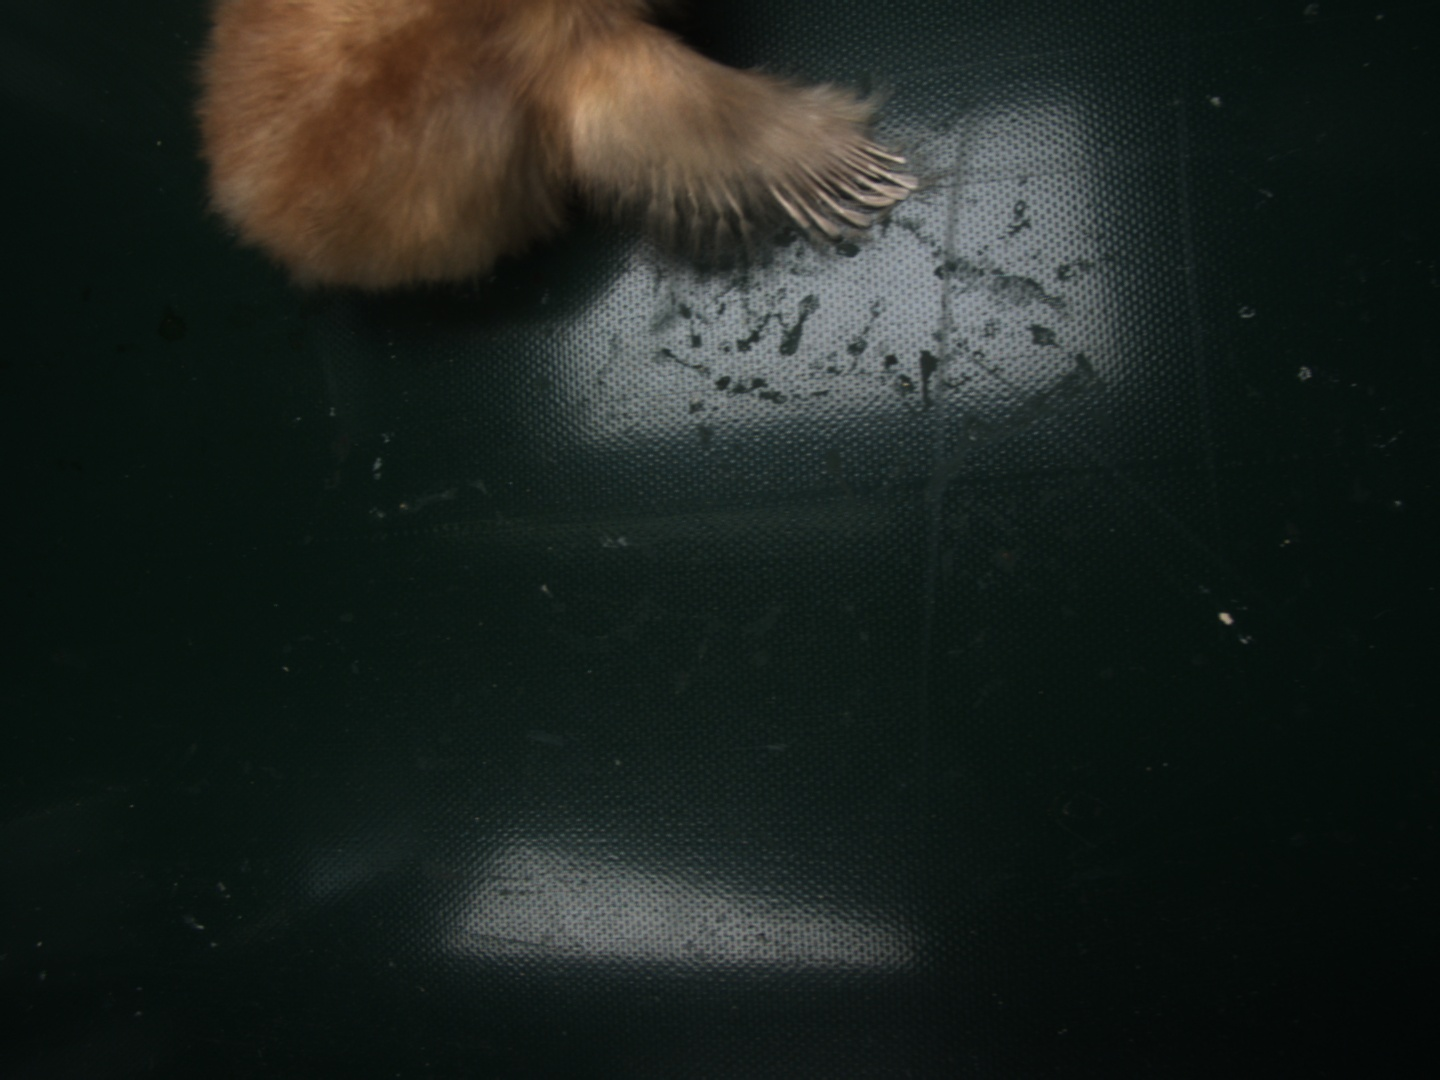female: (762, 135, 920, 237)
